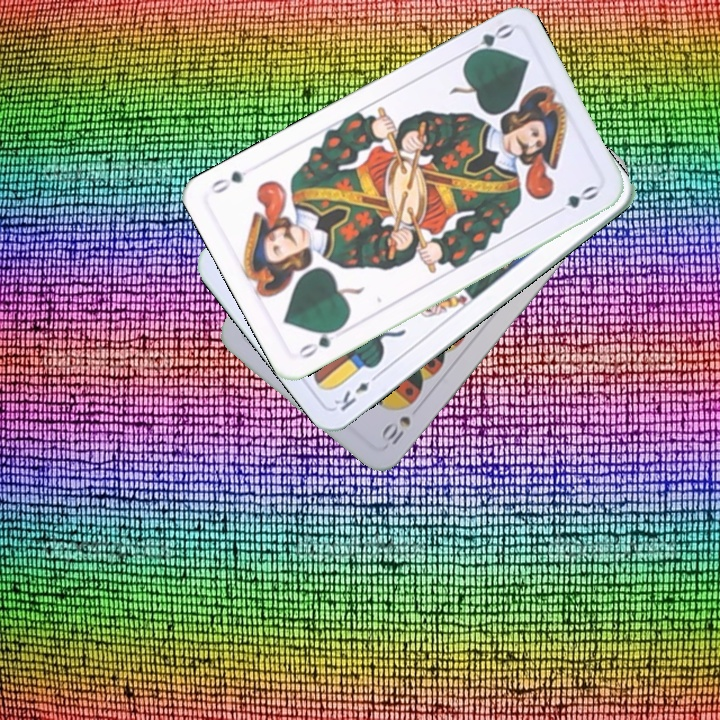EK: (330, 369, 382, 414)
GO: (460, 19, 516, 61), (294, 321, 346, 361)
S10: (377, 411, 414, 448)
